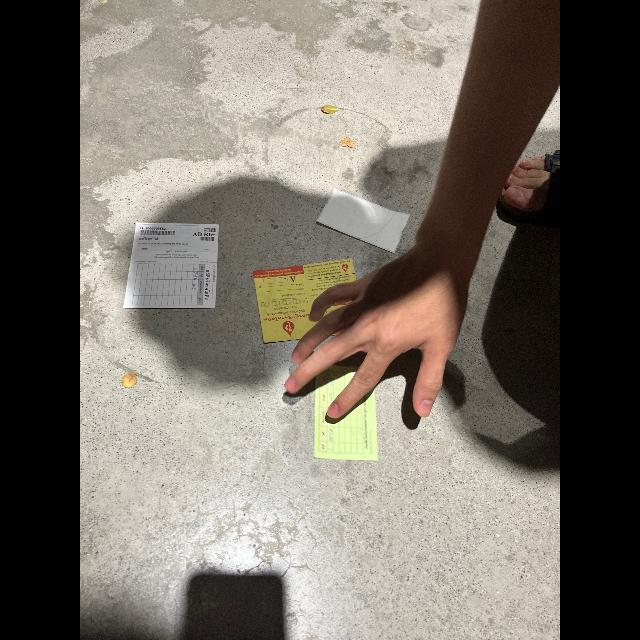scrap_paper: (122, 202, 228, 318), (301, 351, 391, 477), (246, 262, 370, 342), (315, 186, 415, 254)
